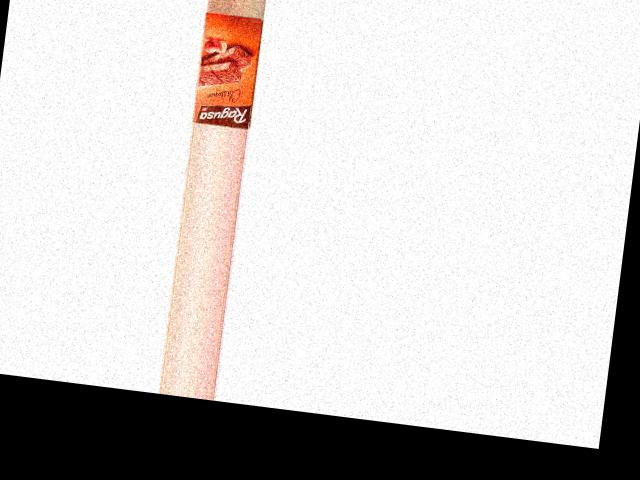chocolate: (185, 10, 266, 128)
